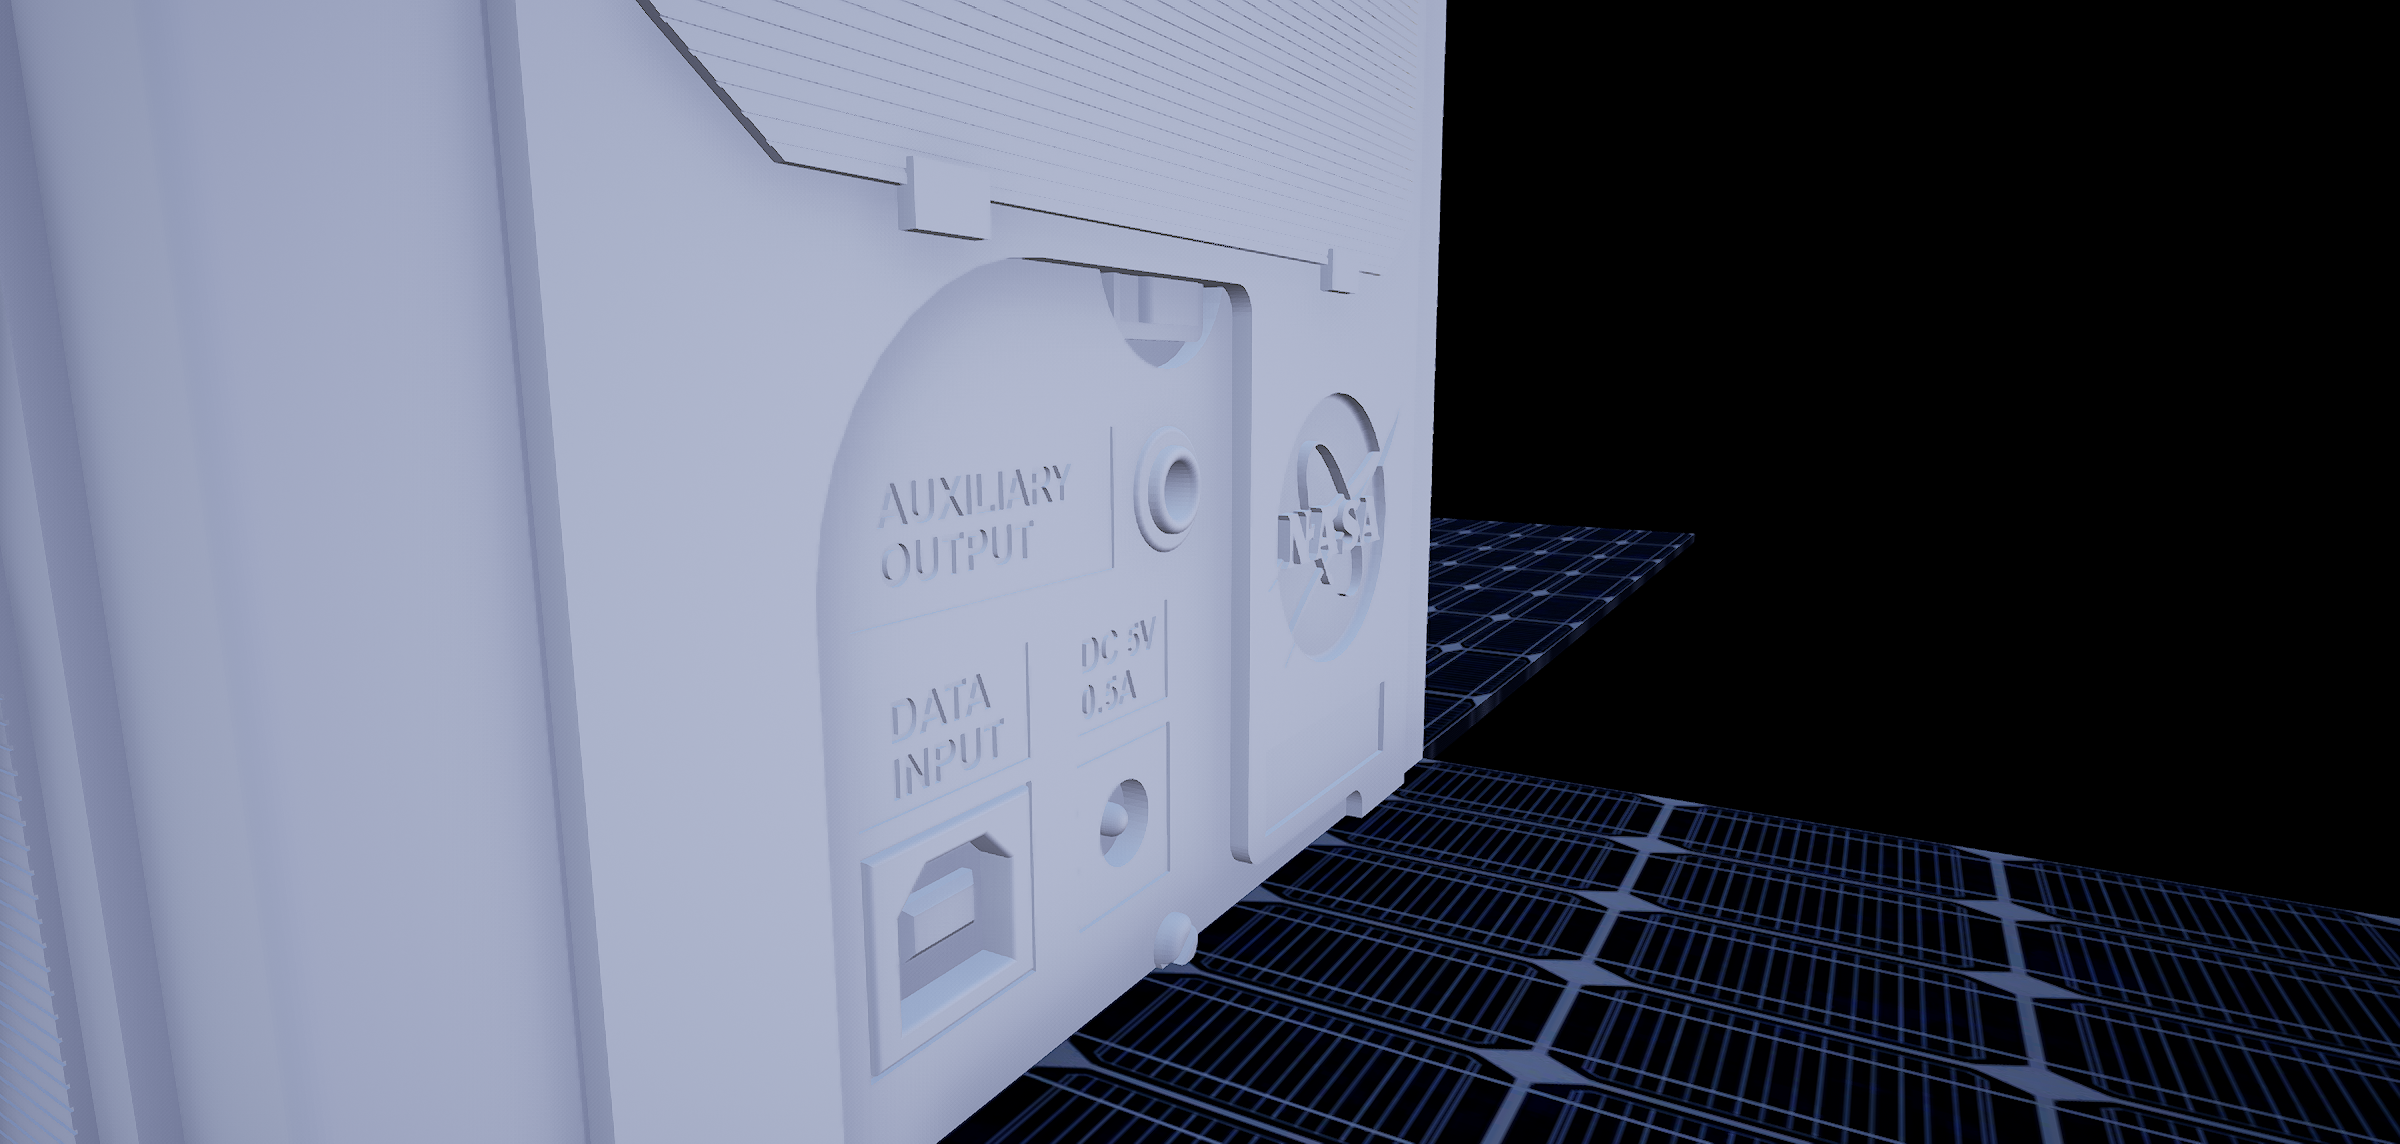aux: (1120, 409, 1220, 567)
dc: (1085, 773, 1163, 881)
usb: (898, 853, 1038, 1005)
